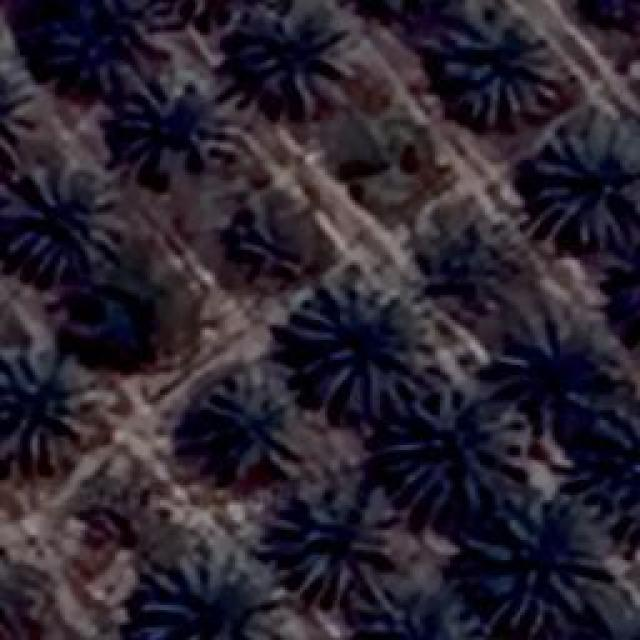PalmTree: (128, 56, 615, 476), (50, 98, 419, 612), (380, 382, 530, 510), (295, 280, 430, 415), (477, 500, 615, 632), (112, 68, 252, 178), (4, 162, 128, 276), (528, 120, 638, 245), (288, 480, 398, 605), (445, 14, 560, 128), (240, 2, 358, 108), (0, 350, 105, 465), (141, 557, 271, 640), (54, 268, 164, 362), (205, 370, 298, 475), (506, 332, 604, 420), (220, 198, 315, 286), (46, 3, 144, 86), (430, 216, 506, 308), (81, 472, 156, 545), (0, 54, 33, 170), (613, 230, 640, 351), (0, 559, 38, 640), (144, 0, 280, 21), (587, 597, 640, 640), (575, 0, 640, 35), (348, 0, 450, 22), (622, 230, 640, 350), (628, 232, 640, 347), (349, 0, 446, 11)
